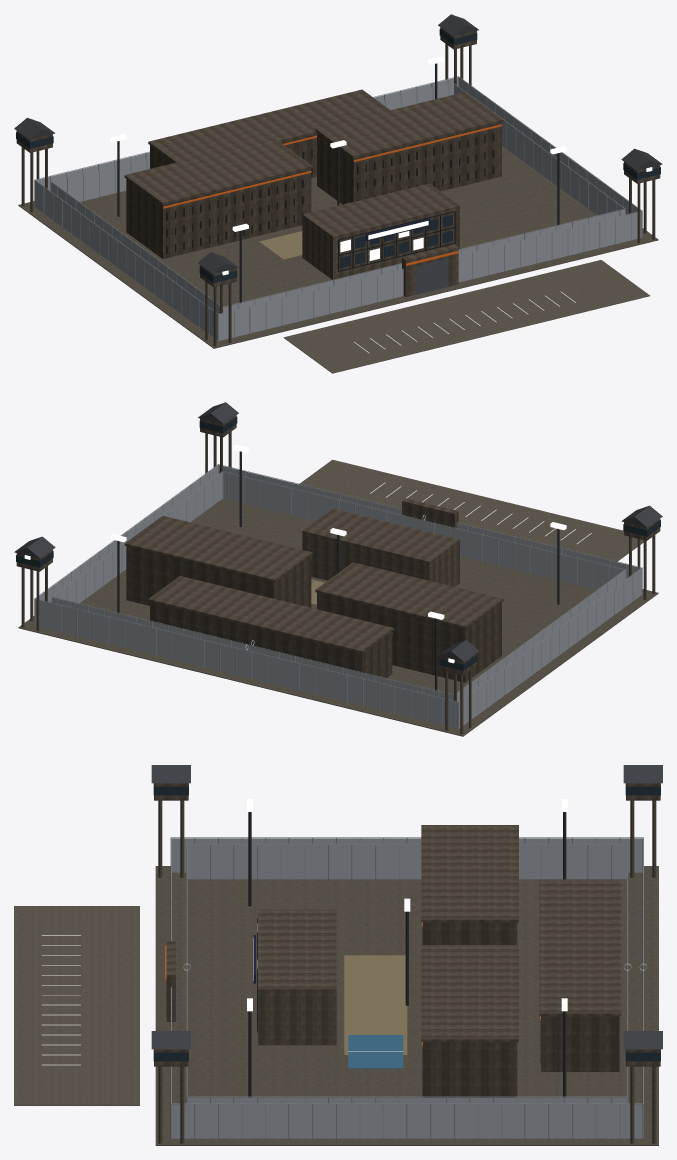
The model's file is OT_Prison_A.glb.
The picture shows the model from 3 angles, top to bottom: view 1: azimuth 30°, elevation 25°; view 2: azimuth 150°, elevation 25°; view 3: azimuth 270°, elevation 25°; orthographic projection. The views are drawn at different scales.
Parts seen in each view (by area): view 1: OT_Prison_A_Concrete, OT_Prison_A_ChainLink__9aa0a6, OT_Prison_A_Pavement, OT_Prison_A_Block, OT_Prison_A_Pavement.001, OT_Prison_A_Fence__8a8f96, OT_Prison_A_Glass__22303a, OT_Prison_A_TowerRoof__3a3d42, OT_Prison_A_Slit__1a1c20, OT_Prison_A_Orange__e46a1e, OT_Prison_A_PoleDark__2a2c30, OT_Prison_A_GateSteel__4a4e54 (+3 smaller); view 2: OT_Prison_A_ChainLink__9aa0a6, OT_Prison_A_Concrete, OT_Prison_A_Pavement, OT_Prison_A_Block, OT_Prison_A_Pavement.001, OT_Prison_A_Fence__8a8f96, OT_Prison_A_TowerRoof__3a3d42, OT_Prison_A_Glass__22303a, OT_Prison_A_PoleDark__2a2c30, OT_Prison_A_Floodlight__fffaf0; view 3: OT_Prison_A_Pavement, OT_Prison_A_Concrete, OT_Prison_A_ChainLink__9aa0a6, OT_Prison_A_Pavement.001, OT_Prison_A_Block, OT_Prison_A_Fence__8a8f96, OT_Prison_A_YardDirt__8a7a5e, OT_Prison_A_TowerRoof__3a3d42, OT_Prison_A_Court__3f6e8c, OT_Prison_A_PoleDark__2a2c30, OT_Prison_A_Glass__22303a, OT_Prison_A_PaintWhite__f0f0ee.001.
Part boxes in pixels (<box>): OT_Prison_A_Concrete: <box>16,27,660,346</box>; OT_Prison_A_ChainLink__9aa0a6: <box>35,77,641,340</box>; OT_Prison_A_Pavement: <box>18,146,658,348</box>; OT_Prison_A_Block: <box>126,122,501,258</box>; OT_Prison_A_Pavement.001: <box>283,260,650,373</box>; OT_Prison_A_Fence__8a8f96: <box>34,76,642,341</box>; OT_Prison_A_Glass__22303a: <box>16,29,660,282</box>; OT_Prison_A_TowerRoof__3a3d42: <box>14,14,662,273</box>; OT_Prison_A_Slit__1a1c20: <box>166,133,494,253</box>; OT_Prison_A_Orange__e46a1e: <box>163,124,502,265</box>; OT_Prison_A_PoleDark__2a2c30: <box>117,63,559,303</box>; OT_Prison_A_GateSteel__4a4e54: <box>416,259,447,294</box>; OT_Prison_A_ChainLink__9aa0a6: <box>35,465,641,728</box>; OT_Prison_A_Concrete: <box>16,415,660,734</box>; OT_Prison_A_Pavement: <box>18,498,658,736</box>; OT_Prison_A_Block: <box>126,546,501,682</box>; OT_Prison_A_Pavement.001: <box>299,459,643,561</box>; OT_Prison_A_Fence__8a8f96: <box>34,464,642,729</box>; OT_Prison_A_TowerRoof__3a3d42: <box>14,402,662,661</box>; OT_Prison_A_Glass__22303a: <box>16,417,660,670</box>; OT_Prison_A_PoleDark__2a2c30: <box>117,451,559,691</box>; OT_Prison_A_Floodlight__fffaf0: <box>24,444,566,663</box>; OT_Prison_A_Pavement: <box>155,866,658,1145</box>; OT_Prison_A_Concrete: <box>154,783,660,1143</box>; OT_Prison_A_ChainLink__9aa0a6: <box>172,838,642,1138</box>; OT_Prison_A_Pavement.001: <box>14,906,139,1105</box>; OT_Prison_A_Block: <box>423,922,619,1097</box>; OT_Prison_A_Fence__8a8f96: <box>170,837,643,1138</box>; OT_Prison_A_YardDirt__8a7a5e: <box>344,955,407,1055</box>; OT_Prison_A_TowerRoof__3a3d42: <box>151,765,662,1049</box>; OT_Prison_A_Court__3f6e8c: <box>348,1035,403,1068</box>; OT_Prison_A_PoleDark__2a2c30: <box>248,812,566,1097</box>; OT_Prison_A_Glass__22303a: <box>153,783,660,1061</box>; OT_Prison_A_PaintWhite__f0f0ee.001: <box>41,935,80,1065</box>.
Size of the model in its own units: 85 by 15.2 by 82.5.
22 materials, 4 textured.
